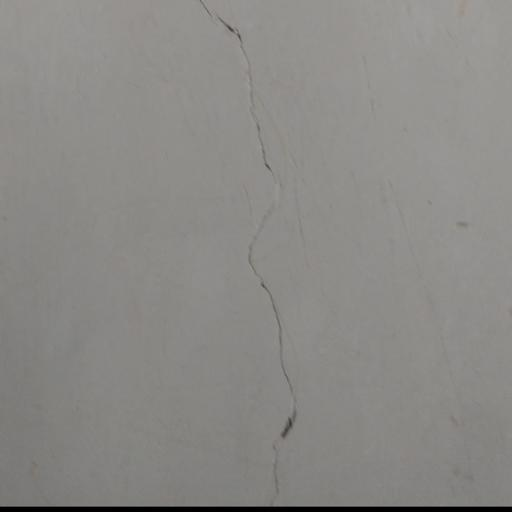minor_crack: (181, 0, 331, 512)
